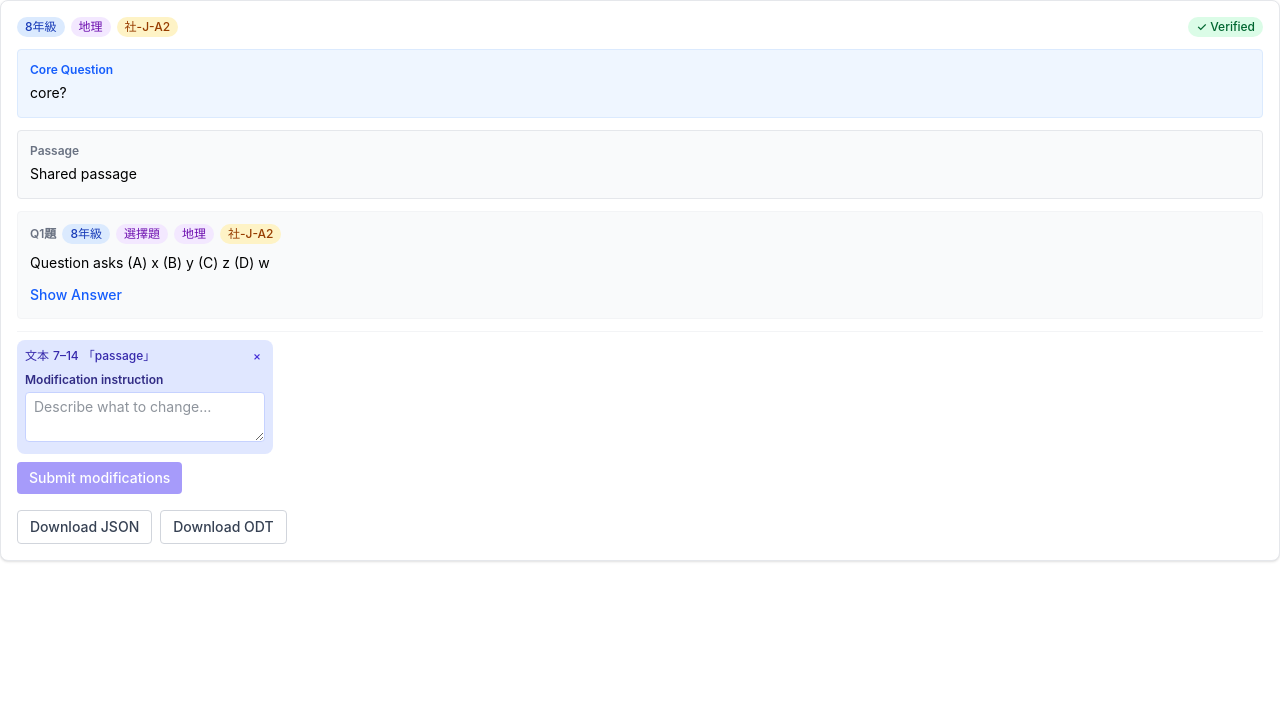
it: QuestionCard 人工審題修正 run lifecycle › updates the card in place with the modified question and ripple report
Type "Fix the passage" into the text box named "Modification instruction 1" at (145,417), box [25,392,265,442]
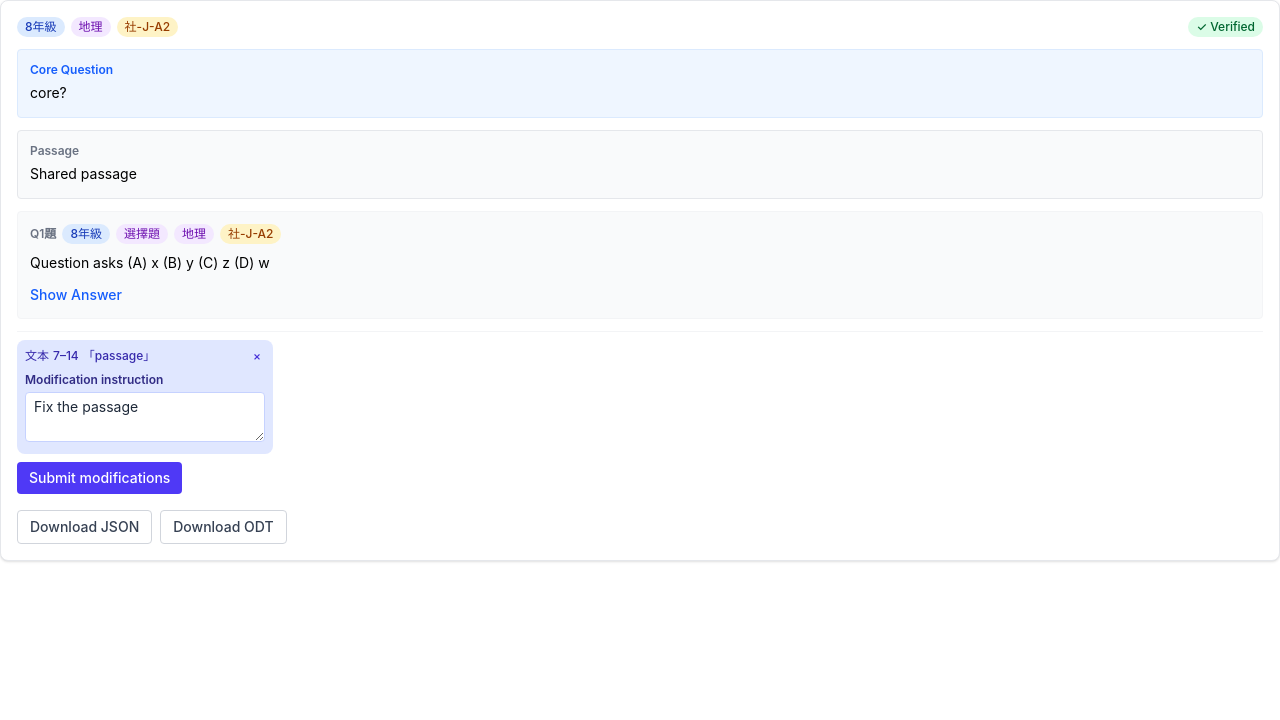
Click the button "Submit modifications" at (100,478), box [17,462,182,494]
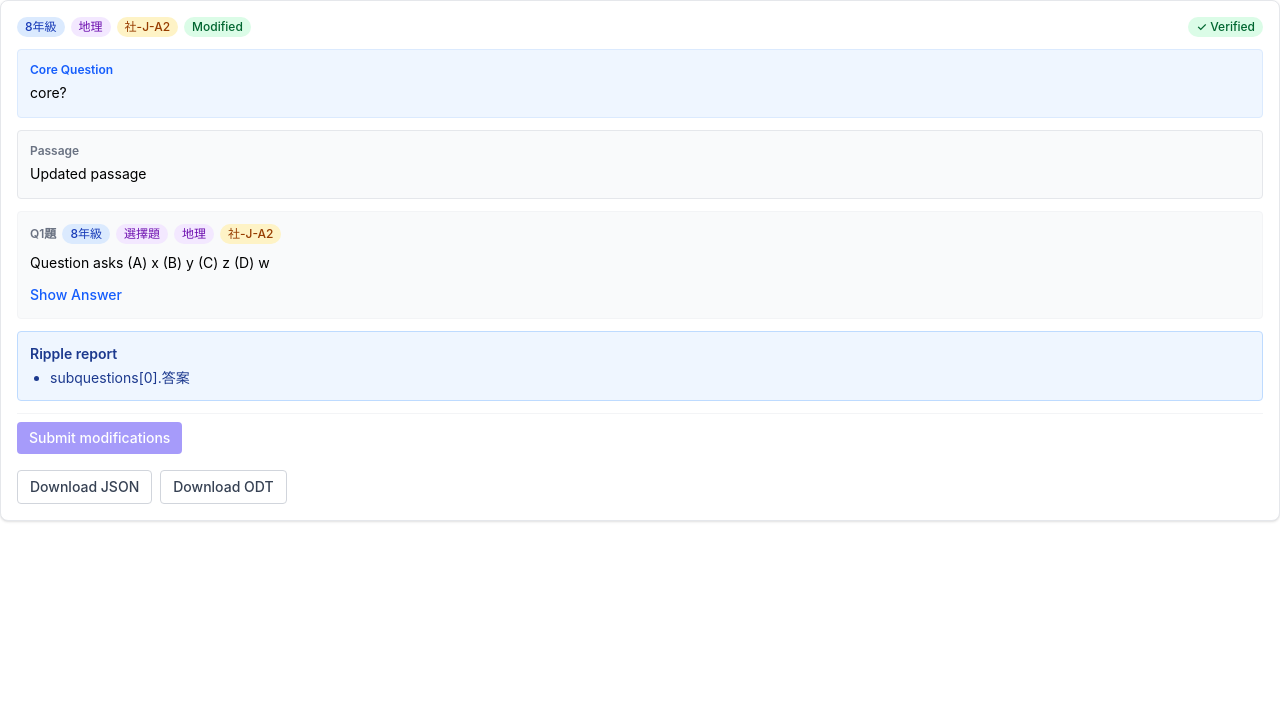
expect the text "Modified" is shown: met, box [184,17,251,37]
expect the text "Updated passage" is shown: met, box [30,165,146,182]
expect the element "Ripple report" shows "subquestions[0].答案": met, box [50,369,190,386]
